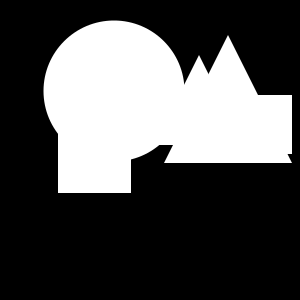circle: (58, 120, 131, 193), (233, 95, 292, 154)
rectangle: (44, 21, 184, 162)
triangle: (164, 35, 292, 163), (154, 55, 244, 145)
